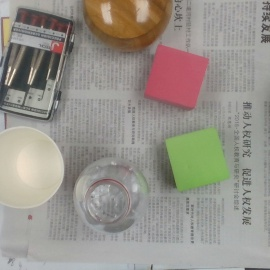bottle: (72, 156, 150, 234)
chess: (80, 1, 174, 53)
cup: (1, 126, 67, 211)
